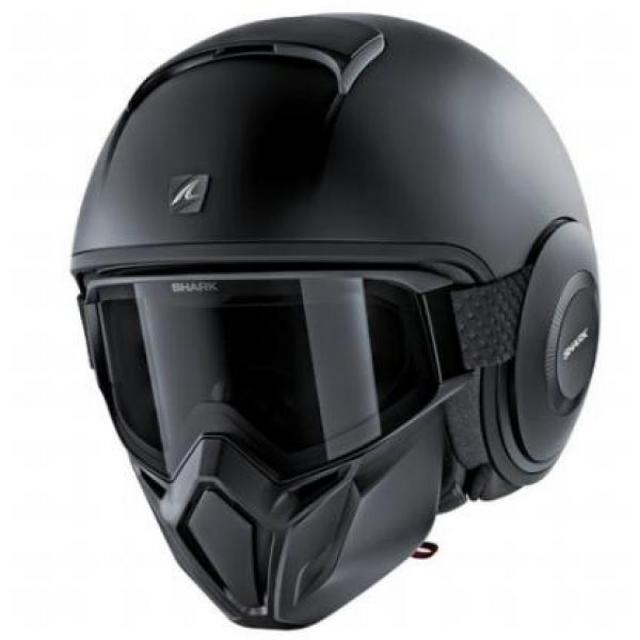Helmet: (80, 22, 566, 584)
